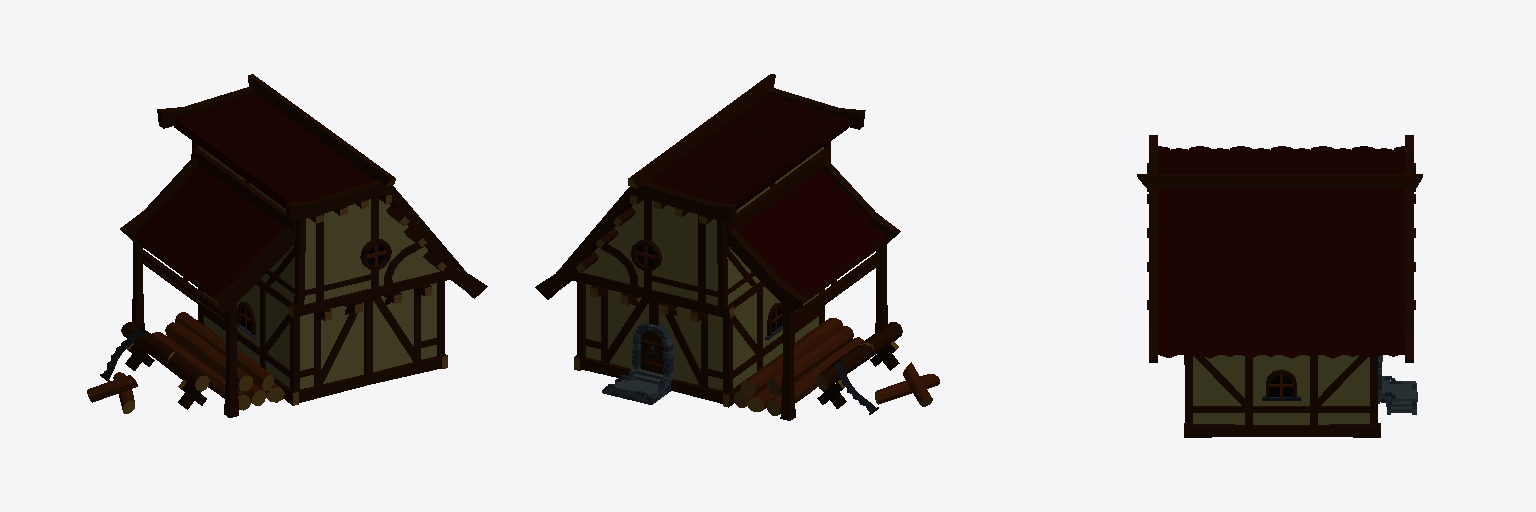
The model's file is Sawmill_Cube.obj.
The picture shows the model from 3 angles: view 1: azimuth 30°, elevation 25°; view 2: azimuth 150°, elevation 25°; view 3: azimuth 270°, elevation 25°; orthographic projection.
Visible parts, largest first — view 1: Sawmill_Cube.047; view 2: Sawmill_Cube.047; view 3: Sawmill_Cube.047.
Boxes of the visible parts, box(x1,y1,x2,y2) form: Sawmill_Cube.047: box(87, 74, 487, 417); Sawmill_Cube.047: box(535, 74, 939, 420); Sawmill_Cube.047: box(1137, 135, 1422, 437).
Size of the model in its own units: 4.4 by 2.86 by 3.28.